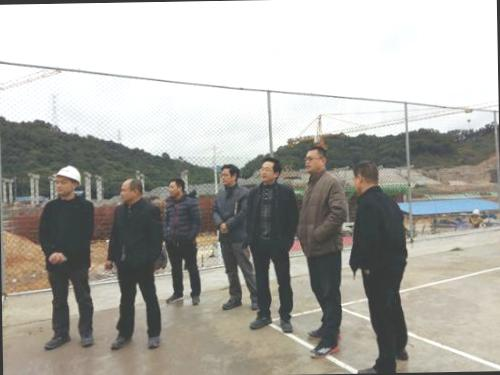no_helmet: (350, 154, 382, 196), (302, 144, 330, 175), (118, 173, 146, 203), (256, 156, 282, 182), (219, 164, 244, 189), (166, 176, 186, 198)
